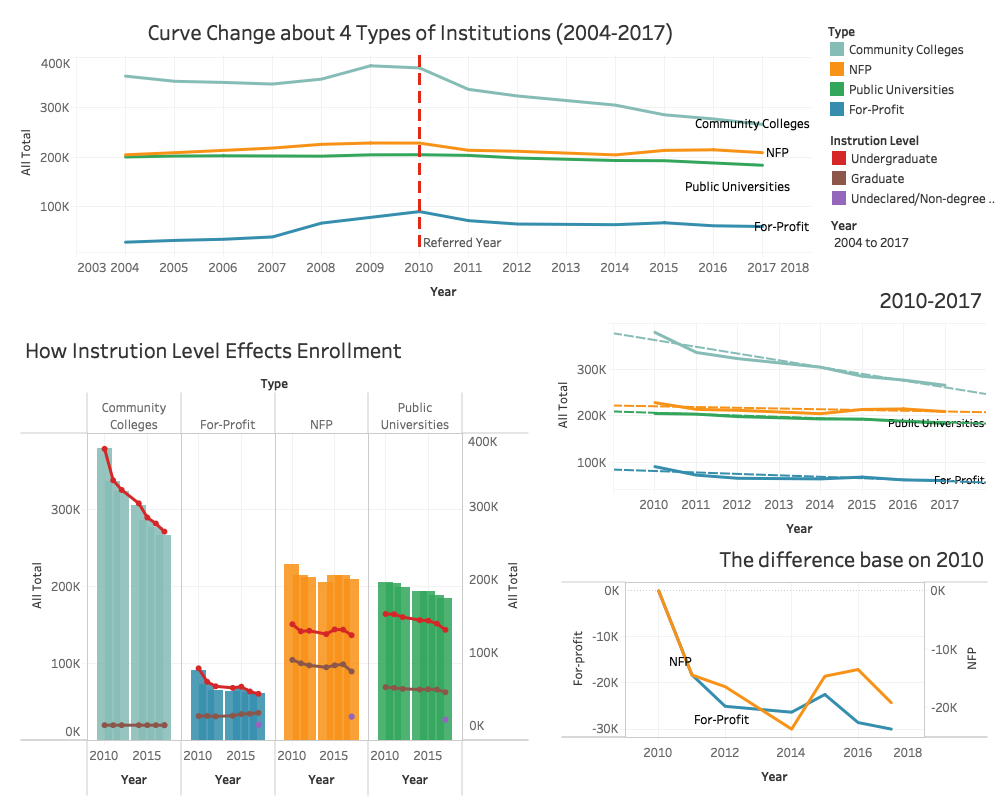

What the dashboard file says about the page in this screenshot:
{"tool":"tableau","page":{"name":"Dashboard 1","canvas":[1000,1000],"units":"permille","ordinal":0},"visuals":[{"type":"worksheet","title":"Sheet 1","mark":"Area","rows":["AllTotal"],"cols":["Year"],"box":[442.3,29.5,549.6,447.7]},{"type":"text","box":[13.1,50.9,431.6,48.3]},{"type":"image","param":"/Users/Yilia/Python/csci627-project02-Yilia59/logo.png","box":[141.7,76.4,306.3,127.4]},{"type":"text","box":[13.9,80.4,81.9,44.2]},{"type":"worksheet","title":"Sheet 5","mark":"Bar","rows":["Calculation_1312517869978537987","Calculation_1312517869981421574","Calculation_1312517869970886656","Calculation_1312517869971095553"],"cols":["Year"],"box":[13.1,218.5,418.5,773.5]},{"type":"legend","title":"Sheet 5","param":"[federated.1nt31td12r45vc1eib2vi05w9cpl].[max:Calculation_1312517869978537987:qk","box":[296.5,221.2,132.7,67]},{"type":"text","box":[188.4,277.5,32.8,674.3]},{"type":"worksheet","title":"Sheet 6","mark":"Bar","rows":["AllTotal"],"cols":["Type","Year"],"box":[443.9,494.6,556.1,430.3]},{"type":"worksheet","title":"Sheet 3","mark":"GanttBar","box":[498.8,563,501.2,131.4]},{"type":"text","box":[799.3,631.4,9,246.7]},{"type":"text","box":[549.6,646.1,9.8,244]},{"type":"text","box":[919.7,654.2,18,223.9]},{"type":"text","box":[673.2,662.2,10.7,215.8]},{"type":"worksheet","title":"Sheet 7","mark":"Bar","cols":["Calculation_1312517869978537987","Calculation_1312517869981421574","Calculation_1312517869970886656","Calculation_1312517869971095553"],"box":[497.9,883.4,502.9,101.9]}]}

Visuals, with their boxes on the dashboard's canvas, which has no fixed pixel size, in thousandths of its width and height (x1, y1, x2, y2). These are canvas units, not pixel positions in the 1000x800 screenshot, which may show the page scaled, cropped or inside an application window:
"Sheet 1" worksheet (Area marks): 442/30/992/477
text: 13/51/445/99
image: 142/76/448/204
text: 14/80/96/125
"Sheet 5" worksheet (Bar marks): 13/218/432/992
"Sheet 5" legend: 296/221/429/288
text: 188/278/221/952
"Sheet 6" worksheet (Bar marks): 444/495/1000/925
"Sheet 3" worksheet (GanttBar marks): 499/563/1000/694
text: 799/631/808/878
text: 550/646/559/890
text: 920/654/938/878
text: 673/662/684/878
"Sheet 7" worksheet (Bar marks): 498/883/1001/985
